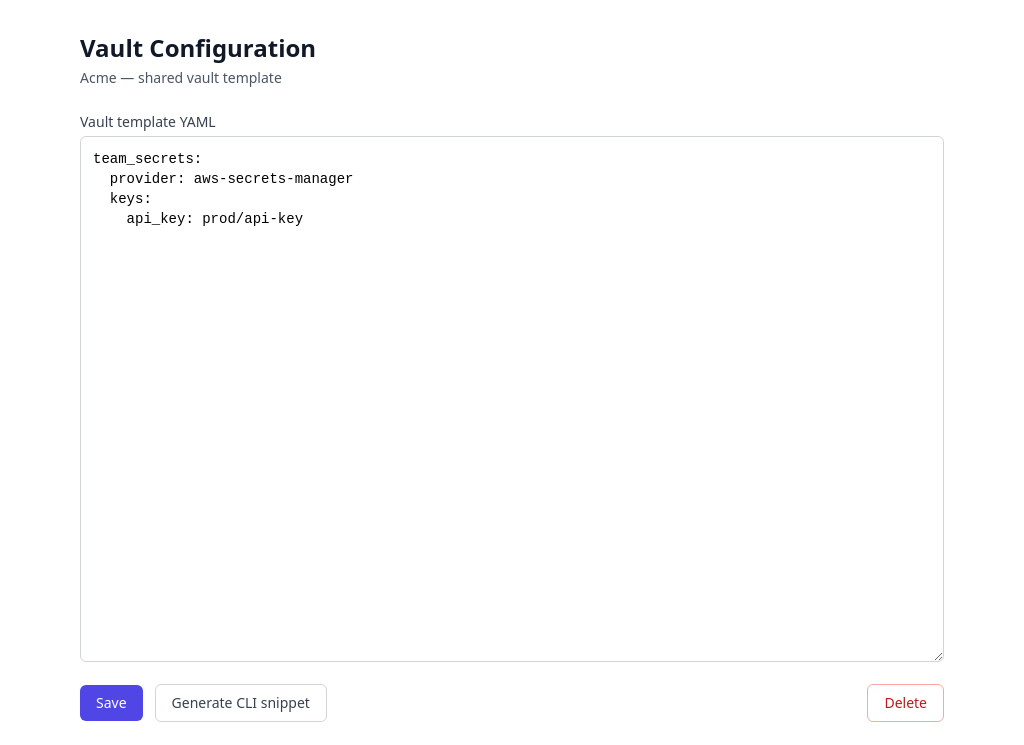
Test: vault-config page › reports a non-422 save failure as an error toast
The image size is (1024, 745).
Click the button with test id "vault-save-button". click: click(111, 703)
box: [80, 685, 143, 721]
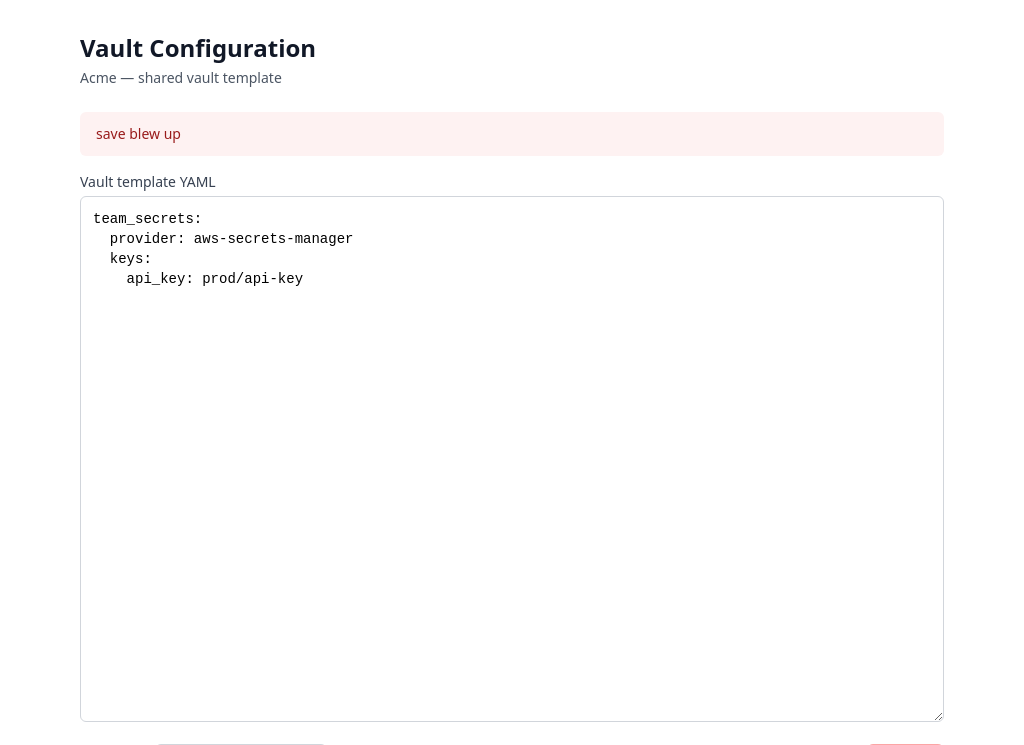
Check: the text "save blew up" is shown, box [80, 112, 944, 156]
